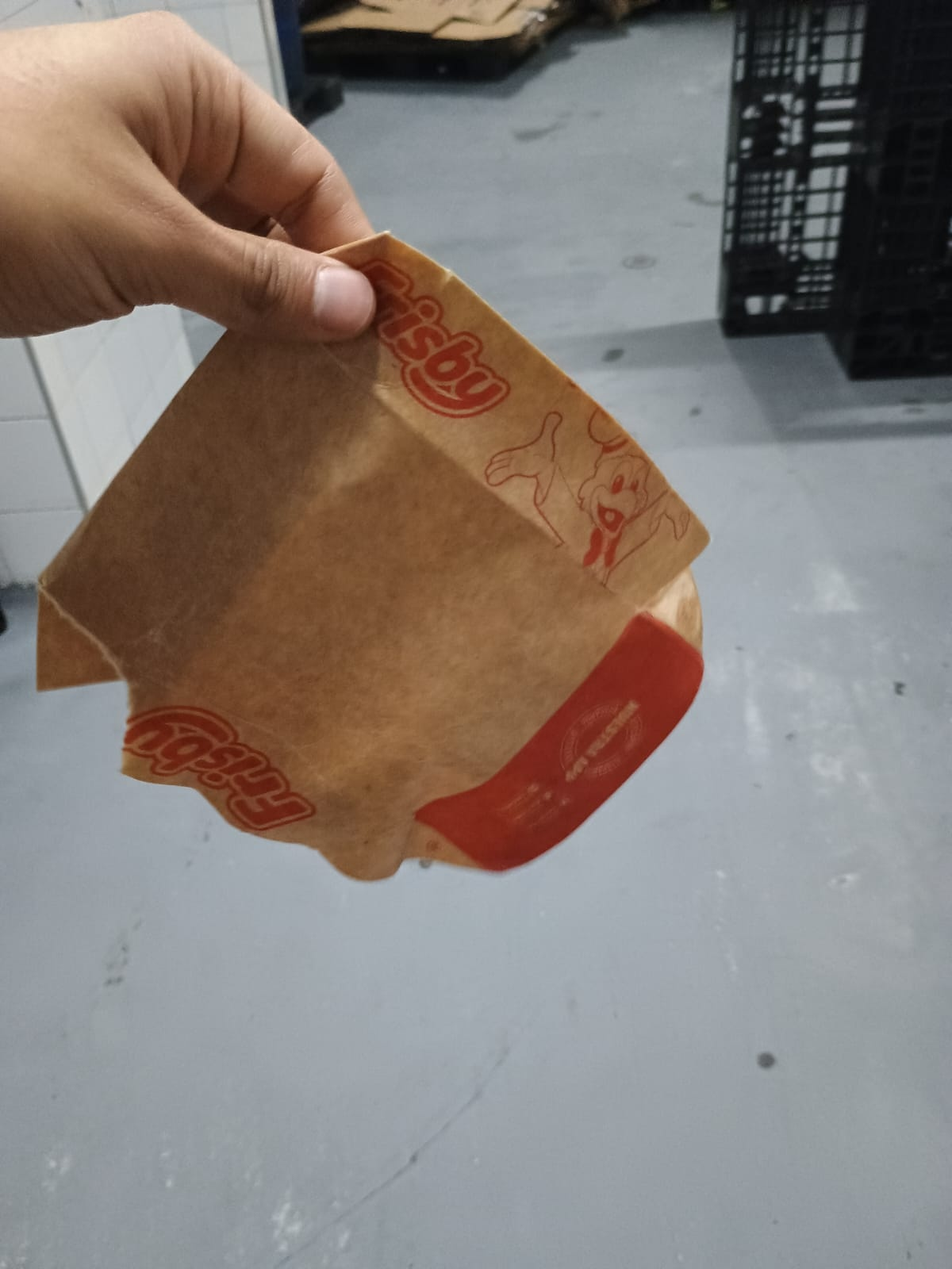Carton: (41, 228, 705, 887)
